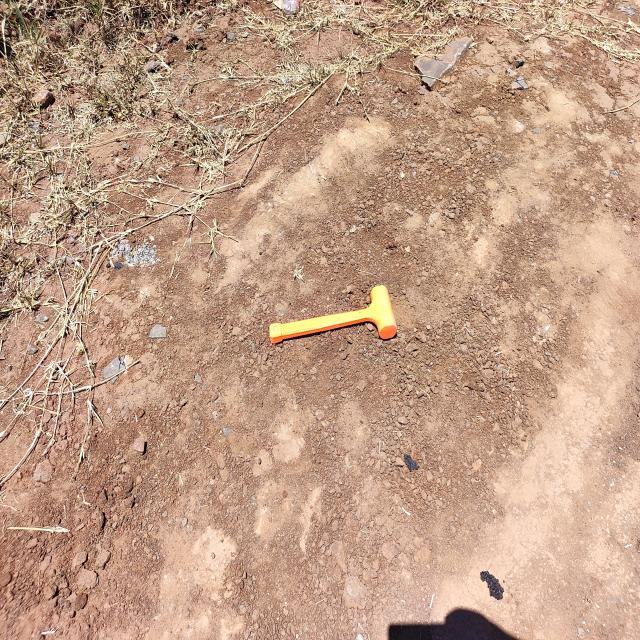Orange_hammer: (268, 284, 398, 344)
